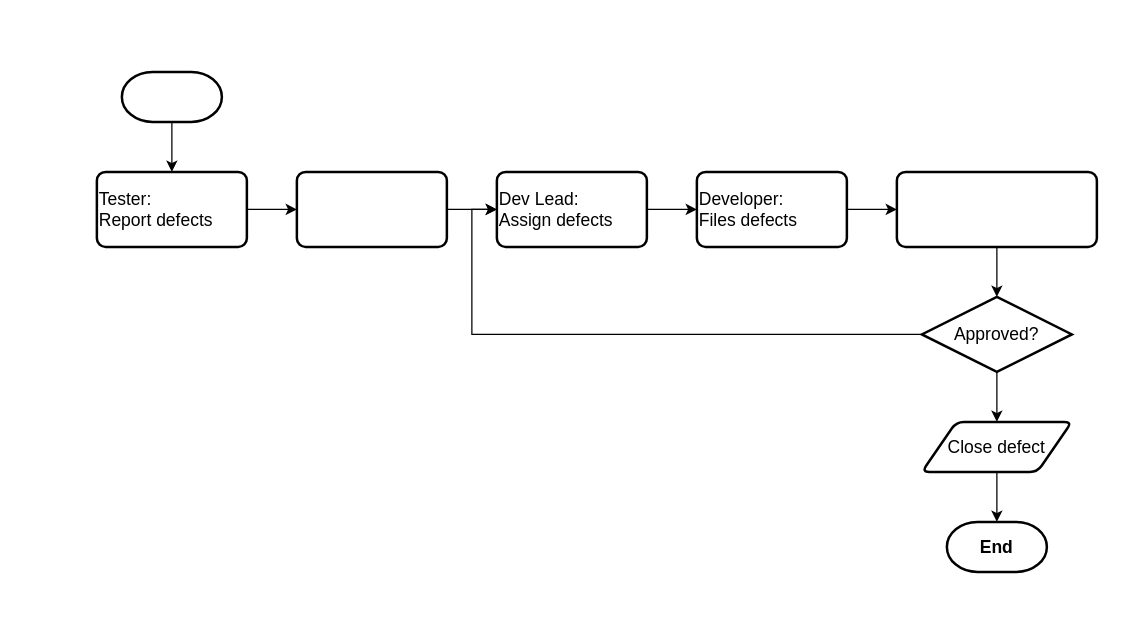
Image size: 1143x643. Some labels were removed from this diagram. The shapes that lost their labels are listed below. From the top down, each one's centre as x and y in pixels, then its label:
At point 171,96: "Start".
At point 371,209: "Test Lead: Validate defects".
At point 996,209: "Tester: Test for other defects".
